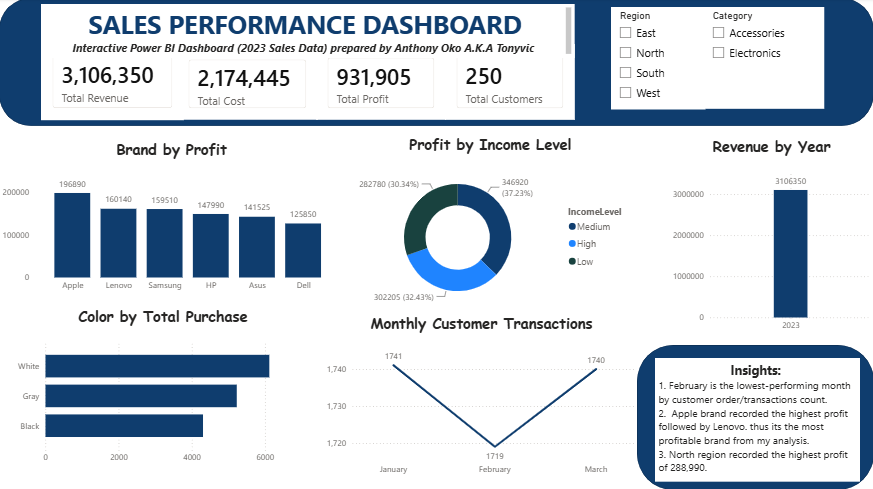

What the dashboard file says about the page in this screenshot:
{"tool":"powerbi","page":{"name":"Page 1","canvas":[1280,720],"ordinal":0},"visuals":[{"type":"shape","box":[0,0,1280,187.3],"z":0},{"type":"columnChart","title":"Brand by Profit","fields":{"Category":["Products.Brand"],"Y":["Sales.Total Profit"]},"box":[0,206.3,504.9,232.7],"z":1000},{"type":"barChart","title":"Color by Total Purchase","fields":{"Category":["Products.Color"],"Y":["Sum(Sales.Quantity)"]},"box":[18.3,450,441.7,240],"z":2000},{"type":"clusteredColumnChart","title":"Revenue by Year","fields":{"Category":["Sales.SaleDate.Variation.Date Hierarchy.Year","Sales.SaleDate.Variation.Date Hierarchy.Quarter","Sales.SaleDate.Variation.Date Hierarchy.Month","Sales.SaleDate.Variation.Date Hierarchy.Day"],"Y":["Sales.Total Revenue"]},"box":[980,202,300,295.6],"z":3000},{"type":"lineChart","title":"Monthly Customer Transactions","fields":{"Category":["Sales.SaleDate.Variation.Date Hierarchy.Month"],"Y":["CountNonNull(Sales.CustomerID)"]},"box":[474.1,461,463.9,247.3],"z":4000},{"type":"donutChart","title":"Profit by Income Level","fields":{"Category":["Customers.IncomeLevel"],"Y":["Sales.Total Profit"]},"box":[504.9,199,428.8,262],"z":5000},{"type":"slicer","fields":{"Values":["Customers.Region"]},"box":[896.2,12.5,138.3,150],"z":6000},{"type":"slicer","fields":{"Values":["Products.Category"]},"box":[1031.7,13.2,175.6,149.3],"z":7000},{"type":"cardVisual","fields":{"Data":["Sales.Total Revenue"]},"box":[61.5,65.9,209.3,112.7],"z":8000},{"type":"cardVisual","fields":{"Data":["Sales.Total Cost"]},"box":[260.5,73.2,206.3,105.4],"z":9000},{"type":"cardVisual","fields":{"Data":["Sales.Total Profit"]},"box":[463.9,70.2,190.2,108.3],"z":10000},{"type":"shape","box":[933.2,507.8,346.8,212.2],"z":10500},{"type":"cardVisual","fields":{"Data":["Sales.Total Customers"]},"box":[652.7,67.3,190.2,111.2],"z":11000},{"type":"textbox","box":[960,526.8,300,181.5],"z":12000},{"type":"textbox","box":[61.5,8.8,781.5,79],"z":13000}]}

Visuals, with their boxes in screenshot pixels (x1, y1, x2, y2), scaled from the page's 1280x720 canvas onto the 873x489 screenshot:
shape: region(0, 0, 872, 127)
"Brand by Profit" columnChart: region(0, 140, 344, 298)
"Color by Total Purchase" barChart: region(12, 306, 314, 469)
"Revenue by Year" clusteredColumnChart: region(668, 137, 872, 338)
"Monthly Customer Transactions" lineChart: region(323, 313, 640, 481)
"Profit by Income Level" donutChart: region(344, 135, 637, 313)
slicer - Customers.Region: region(611, 8, 706, 110)
slicer - Products.Category: region(704, 9, 823, 110)
cardVisual - Sales.Total Revenue: region(42, 45, 185, 121)
cardVisual - Sales.Total Cost: region(178, 50, 318, 121)
cardVisual - Sales.Total Profit: region(316, 48, 446, 121)
shape: region(636, 345, 872, 488)
cardVisual - Sales.Total Customers: region(445, 46, 575, 121)
textbox: region(655, 358, 859, 481)
textbox: region(42, 6, 575, 60)
